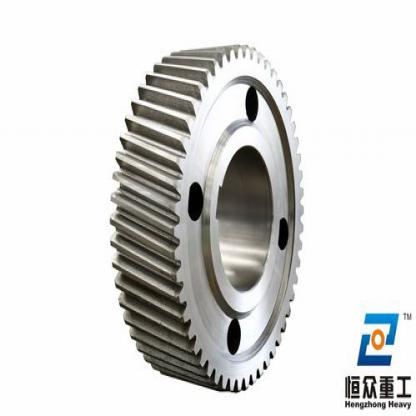FOD: (104, 36, 308, 397)
